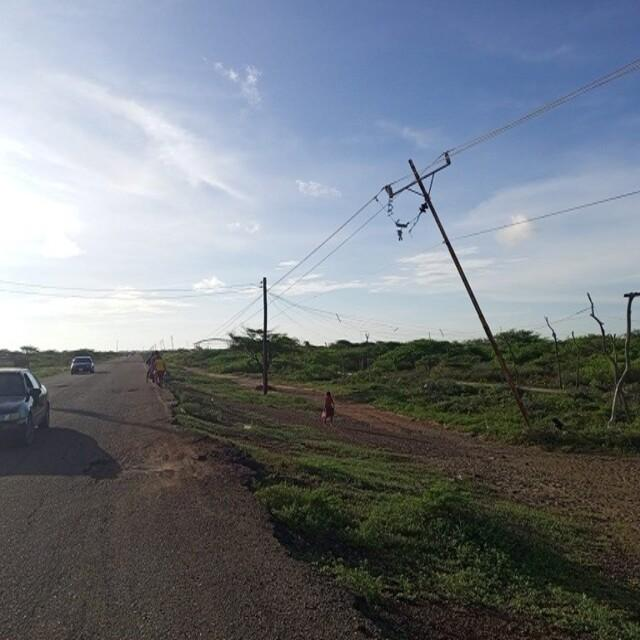Inclined Pole: (375, 143, 534, 429)
